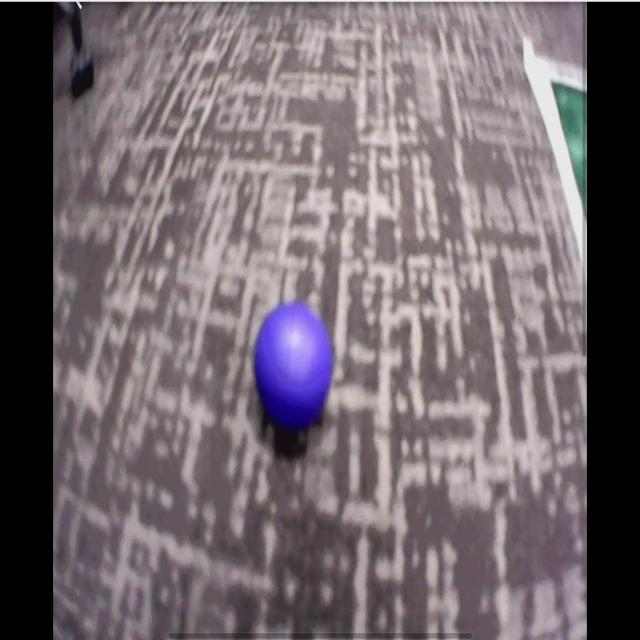ball: (256, 307, 335, 431)
